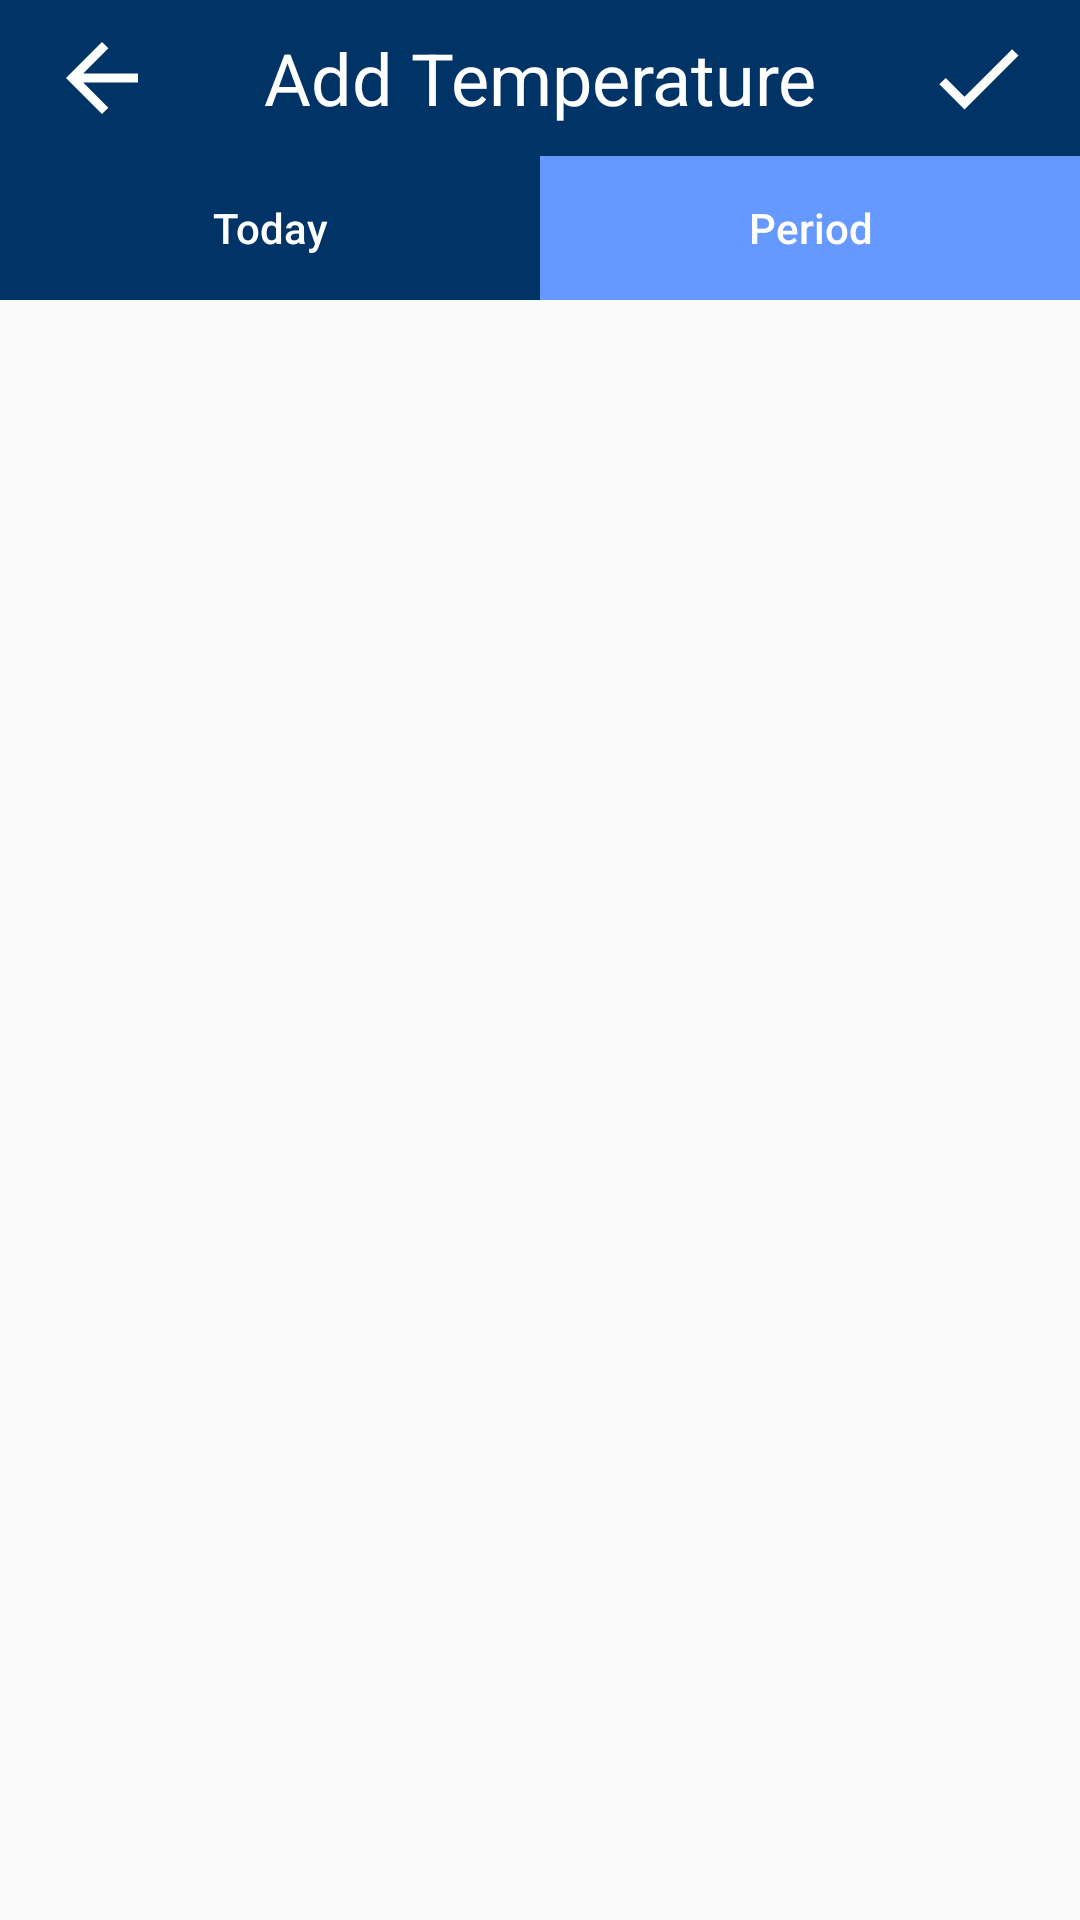

Screen size 1080 x 1920. Icon name, then its center in pixels as (x=x, y=y):
back: (x=102, y=78)
check: (x=979, y=79)
